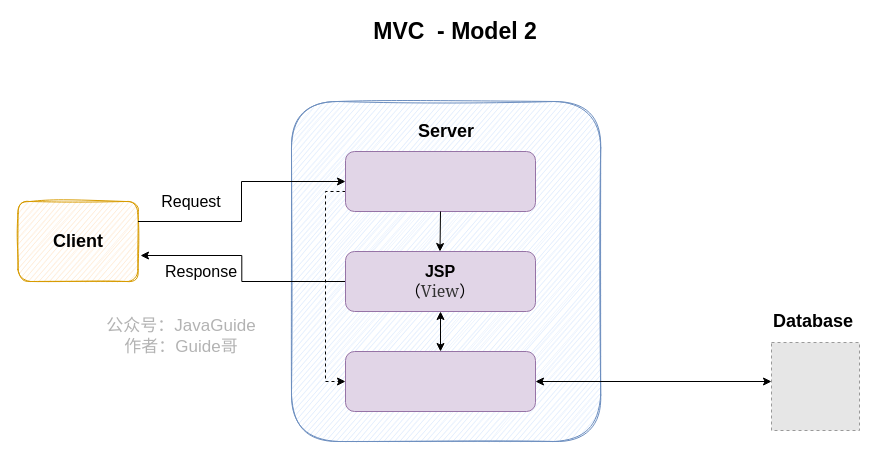
This 877x459 diagram has some shape labels left out. Grey dashed boxes stand in for pictures. Each missing label, with the centre of its shape:
"Java Bean （ Model ）" goes at (440,381).
"Servlet （ Controller ）" goes at (440,181).
